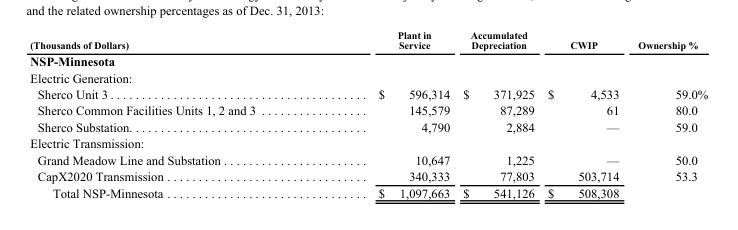table: (29, 28, 707, 199)
table column: (29, 28, 316, 199), (316, 28, 455, 199), (540, 28, 627, 199), (455, 28, 540, 199), (627, 28, 707, 199)
table column header: (29, 28, 707, 51)
table projected row header: (29, 51, 707, 69), (29, 134, 707, 151), (29, 69, 707, 85)
table row: (29, 28, 707, 51), (29, 51, 707, 69), (29, 85, 707, 102), (29, 134, 707, 151), (29, 167, 707, 184), (29, 69, 707, 85), (29, 102, 707, 118), (29, 118, 707, 134), (29, 151, 707, 167), (29, 184, 707, 199)
